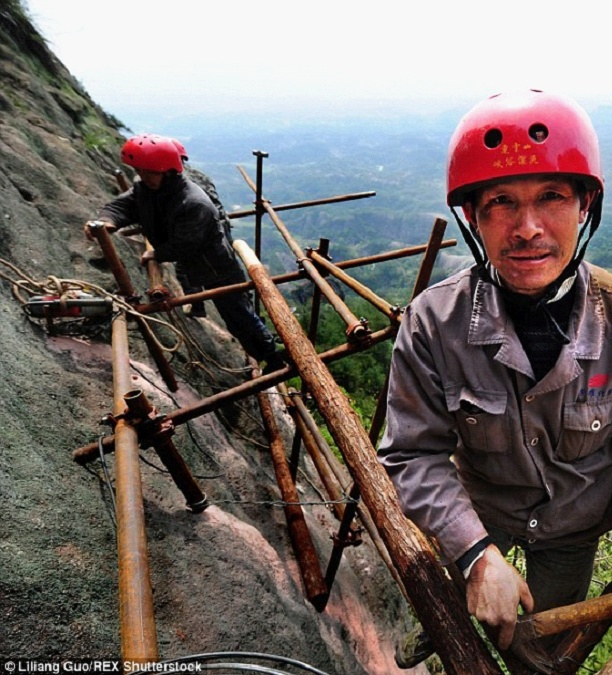red: (431, 80, 605, 288), (117, 128, 182, 193)
